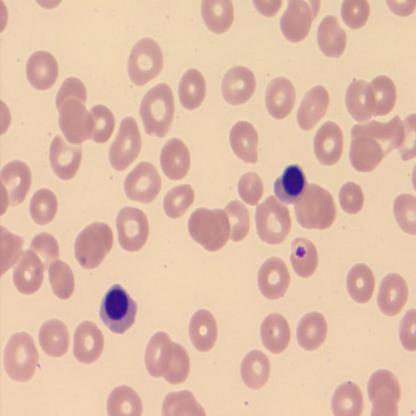NRC: (98, 281, 138, 336), (273, 163, 307, 203)
